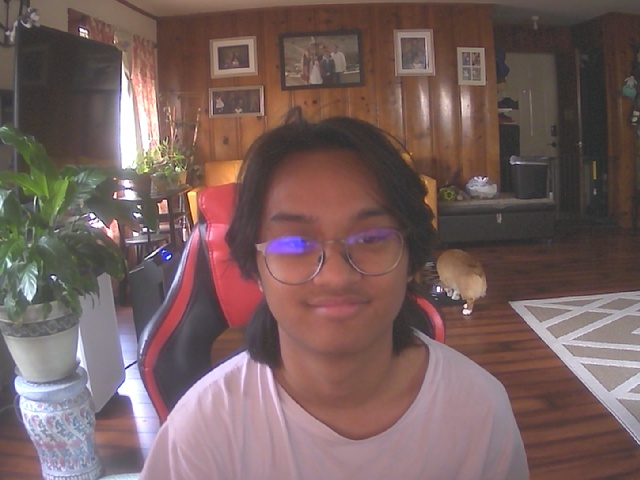happy: (249, 125, 421, 359)
